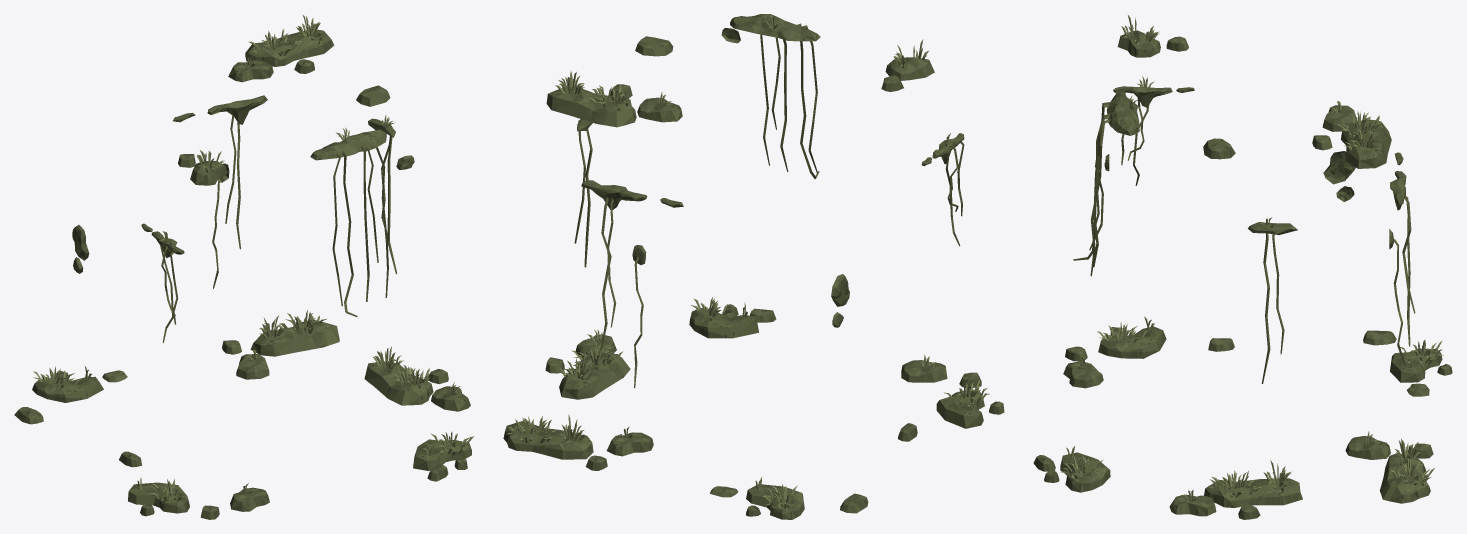
The model's file is SM_Bld_Industrial_Medium_01_Overgrowth_01.obj.
3 views of the same model, side by side, from view 1: azimuth 30°, elevation 25°; view 2: azimuth 150°, elevation 25°; view 3: azimuth 270°, elevation 25° (orthographic). The views are drawn at different scales.
Parts seen in each view (by area): view 1: SM_Bld_Industrial_Medium_01_Overgrowth_01_0, SM_Bld_Industrial_Medium_01_Overgrowth_01_1; view 2: SM_Bld_Industrial_Medium_01_Overgrowth_01_0, SM_Bld_Industrial_Medium_01_Overgrowth_01_1; view 3: SM_Bld_Industrial_Medium_01_Overgrowth_01_0, SM_Bld_Industrial_Medium_01_Overgrowth_01_1.
Boxes of the visible parts, x1,y1,x2,y2 form: SM_Bld_Industrial_Medium_01_Overgrowth_01_0: (14, 29, 471, 519); SM_Bld_Industrial_Medium_01_Overgrowth_01_1: (33, 14, 473, 504); SM_Bld_Industrial_Medium_01_Overgrowth_01_0: (503, 14, 1004, 519); SM_Bld_Industrial_Medium_01_Overgrowth_01_1: (506, 16, 989, 508); SM_Bld_Industrial_Medium_01_Overgrowth_01_0: (1033, 30, 1452, 519); SM_Bld_Industrial_Medium_01_Overgrowth_01_1: (1060, 14, 1443, 501).
Size of the model in its own units: 19.32 by 17.2 by 18.26.
Materials: 2 (2 with a texture image).
